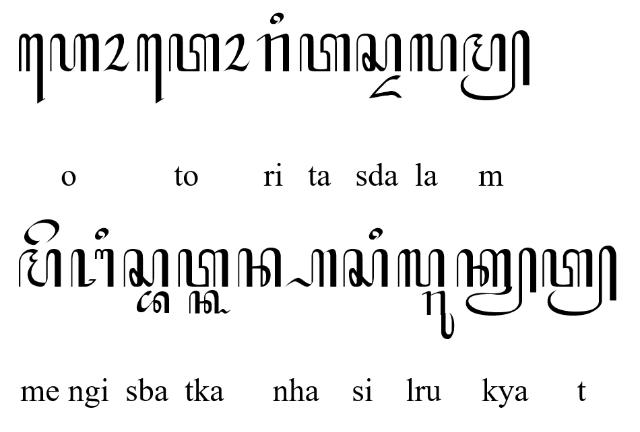-m: (461, 29, 531, 101)
-t: (542, 245, 616, 317)
_b: (136, 290, 170, 314)
_d: (368, 75, 402, 99)
_h: (284, 248, 338, 287)
_k: (188, 290, 232, 316)
e: (24, 219, 61, 246)
e1: (18, 32, 46, 104), (136, 32, 164, 104)
h: (49, 32, 99, 72)
i: (94, 227, 110, 241), (270, 12, 284, 26), (368, 228, 384, 240)
ky: (456, 248, 536, 316)
l: (408, 34, 458, 72), (397, 248, 445, 287)
m: (18, 249, 62, 289)
n: (237, 247, 283, 288)
nga: (70, 248, 114, 287)
o: (102, 32, 130, 72), (223, 32, 251, 72)
r: (256, 34, 290, 72)
ru: (422, 290, 454, 339)
s: (122, 248, 170, 288), (356, 32, 402, 72), (342, 248, 388, 288)
t: (168, 32, 220, 74), (177, 248, 229, 287), (300, 33, 350, 73)
